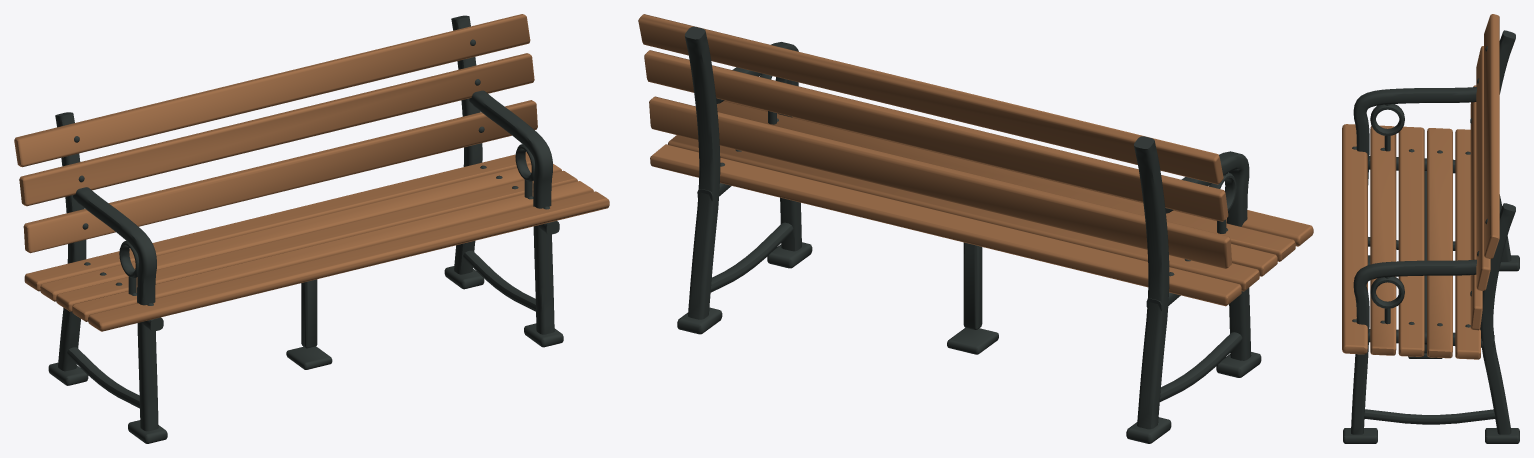
File: Bench.fbx
3 renders of one model, left to right at view 1: azimuth 30°, elevation 25°; view 2: azimuth 150°, elevation 25°; view 3: azimuth 270°, elevation 25°, orthographic. The views are drawn at different scales.
Parts seen in each view (by area): view 1: Bench_BackSlats, Bench_SeatSlats, Bench_Frame_L, Bench_Frame_R, Bench_Rail; view 2: Bench_BackSlats, Bench_SeatSlats, Bench_Frame_L, Bench_Frame_R, Bench_Rail; view 3: Bench_SeatSlats, Bench_Frame_R, Bench_BackSlats, Bench_Frame_L, Bench_Rail, Bench_Bolts.
Boxes of the visible parts, bbox=[...] form: Bench_BackSlats: bbox=[14, 14, 537, 253]; Bench_SeatSlats: bbox=[24, 152, 609, 331]; Bench_Frame_L: bbox=[48, 112, 167, 443]; Bench_Frame_R: bbox=[444, 15, 563, 347]; Bench_Rail: bbox=[286, 279, 332, 369]; Bench_BackSlats: bbox=[638, 14, 1231, 268]; Bench_SeatSlats: bbox=[650, 100, 1313, 306]; Bench_Frame_L: bbox=[1126, 136, 1261, 443]; Bench_Frame_R: bbox=[677, 26, 812, 334]; Bench_Rail: bbox=[947, 242, 998, 354]; Bench_SeatSlats: bbox=[1342, 124, 1480, 359]; Bench_Frame_R: bbox=[1343, 203, 1519, 443]; Bench_BackSlats: bbox=[1470, 14, 1499, 330]; Bench_Frame_L: bbox=[1353, 30, 1519, 271]; Bench_Rail: bbox=[1408, 171, 1442, 358]; Bench_Bolts: bbox=[1352, 46, 1487, 327].
Size of the model in its own units: 180 by 89.06 by 60.91.
